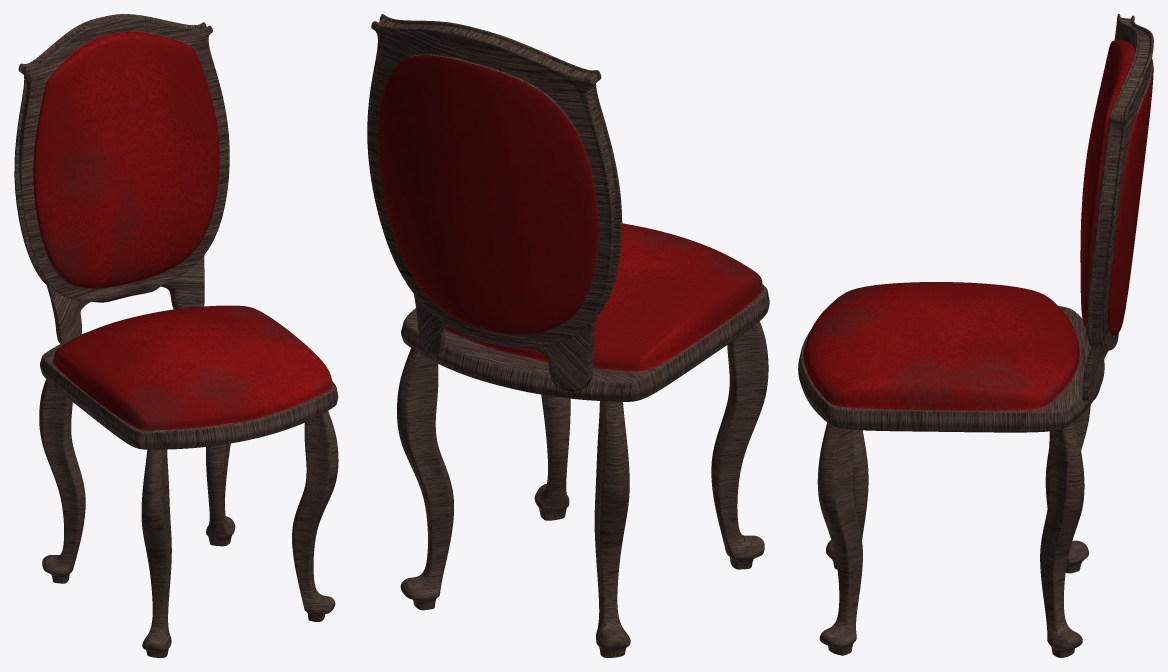
File: szek.glb
The picture shows the model from 3 angles, left to right: view 1: azimuth 30°, elevation 25°; view 2: azimuth 150°, elevation 25°; view 3: azimuth 270°, elevation 25°; orthographic projection. The views are drawn at different scales.
Parts seen in each view (by area): view 1: szek; view 2: szek; view 3: szek.
Part boxes in pixels (left/top/right/bottom): szek: left=14, top=14, right=338, bottom=657; szek: left=367, top=14, right=769, bottom=657; szek: left=798, top=14, right=1153, bottom=657.
Bounding box in the file's own units: 0.4338 × 1.02 × 0.5757.
Materials: 2 (2 with a texture image).
